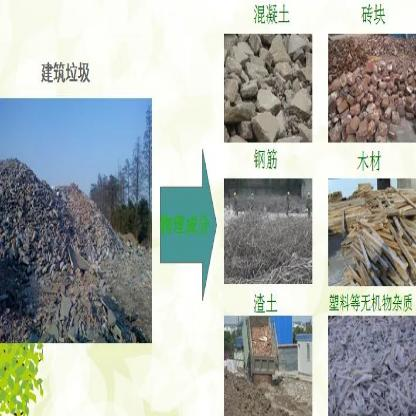rebar: (224, 209, 313, 286)
